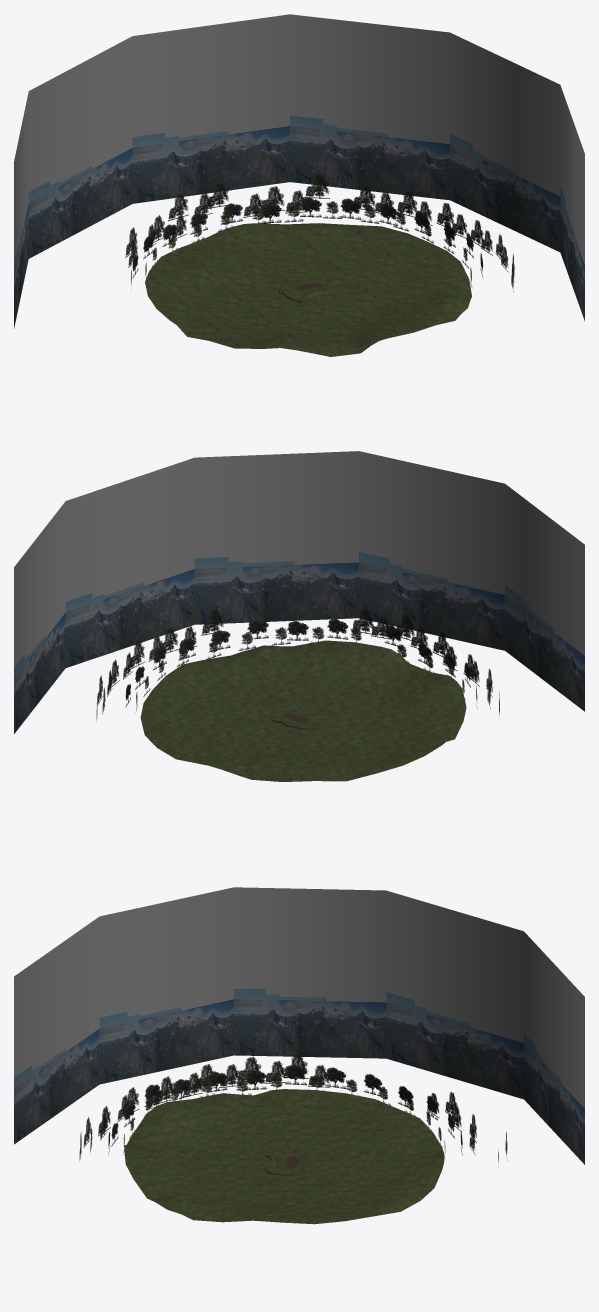
3 renders of one model, top to bottom at view 1: azimuth 30°, elevation 25°; view 2: azimuth 150°, elevation 25°; view 3: azimuth 270°, elevation 25°, orthographic.
Visible parts, largest first — view 1: Mountain2, Ground_floor, Trees_1, Mud_Ground (1); view 2: Mountain2, Ground_floor, Trees_1, Mud_Ground (1); view 3: Mountain2, Ground_floor, Trees_1, Mud_Ground (1).
Part boxes in pixels (bbox=[...]): Mountain2: bbox=[14, 14, 584, 328]; Ground_floor: bbox=[145, 223, 471, 356]; Trees_1: bbox=[125, 173, 514, 292]; Mud_Ground (1): bbox=[278, 277, 339, 300]; Mountain2: bbox=[14, 451, 584, 733]; Ground_floor: bbox=[140, 640, 466, 781]; Trees_1: bbox=[96, 608, 499, 721]; Mud_Ground (1): bbox=[271, 704, 328, 728]; Mountain2: bbox=[14, 887, 584, 1164]; Ground_floor: bbox=[124, 1089, 444, 1224]; Trees_1: bbox=[79, 1053, 507, 1167]; Mud_Ground (1): bbox=[265, 1149, 310, 1174].
Size of the model in its own units: 205 by 66.52 by 205.
Materials: 6 (6 with a texture image).
